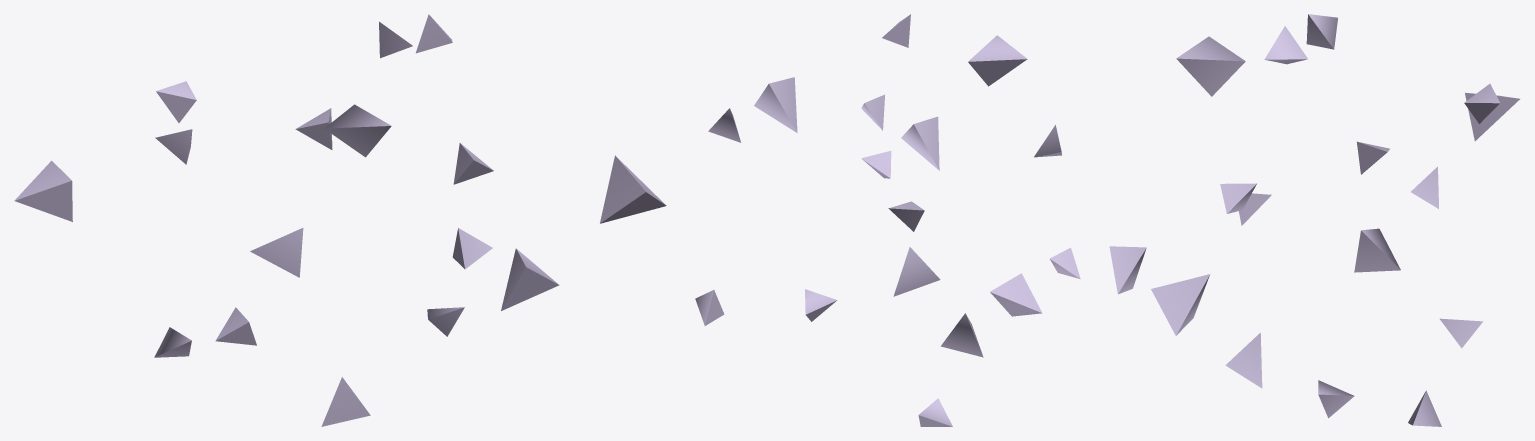
The picture shows the model from 3 angles, left to right: view 1: azimuth 30°, elevation 25°; view 2: azimuth 150°, elevation 25°; view 3: azimuth 270°, elevation 25°; orthographic projection. The views are drawn at different scales.
Visible parts, largest first — view 1: Pyramid090, Pyramid078, Pyramid080, Pyramid142, Pyramid085, Pyramid083, Pyramid077, Pyramid089, Pyramid079, Pyramid084, Pyramid087, Pyramid086 (+4 smaller); view 2: Pyramid080, Pyramid090, Pyramid078, Pyramid142, Pyramid085, Pyramid083, Pyramid089, Pyramid086, Pyramid088, Pyramid077, Pyramid091, Pyramid079 (+4 smaller); view 3: Pyramid080, Pyramid090, Pyramid085, Pyramid142, Pyramid083, Pyramid037, Pyramid081, Pyramid078, Pyramid084, Pyramid077, Pyramid088, Pyramid089 (+4 smaller).
Boxes of the visible parts, left/top/right/bottom form: Pyramid090: left=600, top=155, right=666, bottom=223; Pyramid078: left=14, top=160, right=72, bottom=221; Pyramid080: left=324, top=104, right=391, bottom=157; Pyramid142: left=501, top=248, right=559, bottom=310; Pyramid085: left=250, top=228, right=303, bottom=277; Pyramid083: left=321, top=377, right=370, bottom=426; Pyramid077: left=156, top=81, right=196, bottom=122; Pyramid089: left=452, top=228, right=492, bottom=269; Pyramid079: left=215, top=307, right=256, bottom=345; Pyramid084: left=453, top=143, right=493, bottom=184; Pyramid087: left=295, top=108, right=332, bottom=149; Pyramid086: left=154, top=327, right=191, bottom=357; Pyramid080: left=968, top=35, right=1027, bottom=86; Pyramid090: left=754, top=77, right=797, bottom=132; Pyramid078: left=990, top=273, right=1042, bottom=316; Pyramid142: left=901, top=116, right=939, bottom=170; Pyramid085: left=893, top=247, right=940, bottom=296; Pyramid083: left=940, top=313, right=983, bottom=357; Pyramid089: left=695, top=290, right=724, bottom=325; Pyramid086: left=918, top=398, right=952, bottom=426; Pyramid088: left=805, top=289, right=837, bottom=321; Pyramid077: left=888, top=201, right=924, bottom=231; Pyramid091: left=708, top=108, right=740, bottom=142; Pyramid079: left=1049, top=247, right=1080, bottom=278; Pyramid080: left=1176, top=36, right=1245, bottom=96; Pyramid090: left=1151, top=274, right=1210, bottom=335; Pyramid085: left=1354, top=228, right=1400, bottom=272; Pyramid142: left=1109, top=246, right=1146, bottom=294; Pyramid083: left=1225, top=332, right=1262, bottom=388; Pyramid037: left=1306, top=14, right=1337, bottom=49; Pyramid081: left=1264, top=26, right=1307, bottom=64; Pyramid078: left=1465, top=92, right=1519, bottom=140; Pyramid084: left=1220, top=183, right=1256, bottom=213; Pyramid077: left=1464, top=84, right=1499, bottom=123; Pyramid088: left=1318, top=380, right=1354, bottom=418; Pyramid089: left=1408, top=390, right=1441, bottom=426.
Size of the model in its own units: 8.72 by 6.46 by 6.42.
